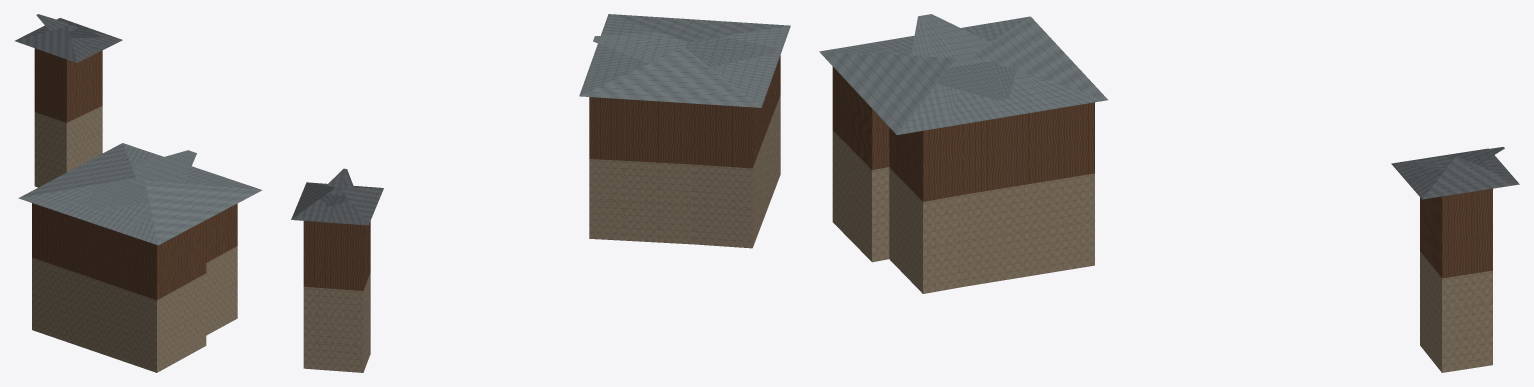
File: bld_c5_37_530.gltf
The picture shows the model from 3 angles, left to right: view 1: azimuth 30°, elevation 25°; view 2: azimuth 150°, elevation 25°; view 3: azimuth 270°, elevation 25°; orthographic projection. The views are drawn at different scales.
Visible parts, largest first — view 1: bld_c5_37_530; view 2: bld_c5_37_530; view 3: bld_c5_37_530.
Boxes of the visible parts, x1,y1,x2,y2 form: bld_c5_37_530: [15, 14, 262, 372]; bld_c5_37_530: [291, 14, 790, 372]; bld_c5_37_530: [819, 14, 1519, 372].
Size of the model in its own units: 18.24 by 11.8 by 33.67.
4 materials, 4 textured.
